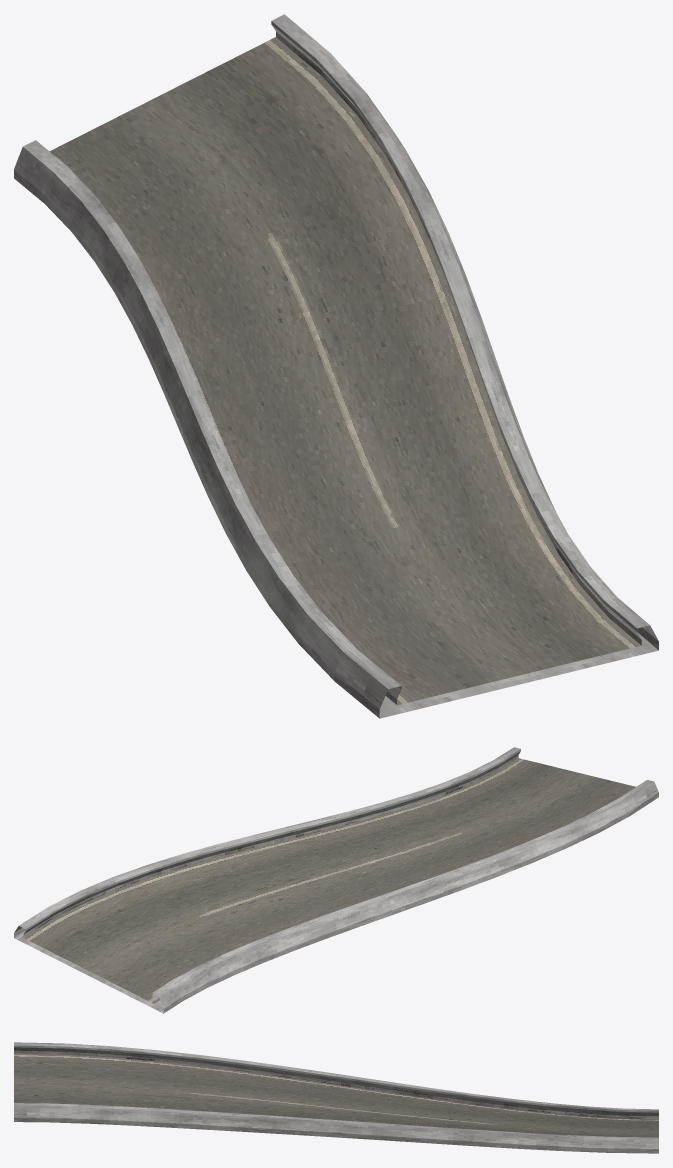
File: chicane-right1x4.glb
3 views of the same model, one above another, from view 1: azimuth 30°, elevation 25°; view 2: azimuth 150°, elevation 25°; view 3: azimuth 270°, elevation 25° (orthographic). The views are drawn at different scales.
Visible parts, largest first — view 1: road-Chicane-Flat-HalfBankedLeft-Even-Right1-Size4; view 2: road-Chicane-Flat-HalfBankedLeft-Even-Right1-Size4; view 3: road-Chicane-Flat-HalfBankedLeft-Even-Right1-Size4.
Boxes of the visible parts, x1,y1,x2,y2 form: road-Chicane-Flat-HalfBankedLeft-Even-Right1-Size4: (14,14,658,718); road-Chicane-Flat-HalfBankedLeft-Even-Right1-Size4: (14,747,658,1013); road-Chicane-Flat-HalfBankedLeft-Even-Right1-Size4: (14,1042,658,1153).
Bounding box in the file's own units: 2 × 0.3359 × 4.
Materials: 2 (2 with a texture image).
